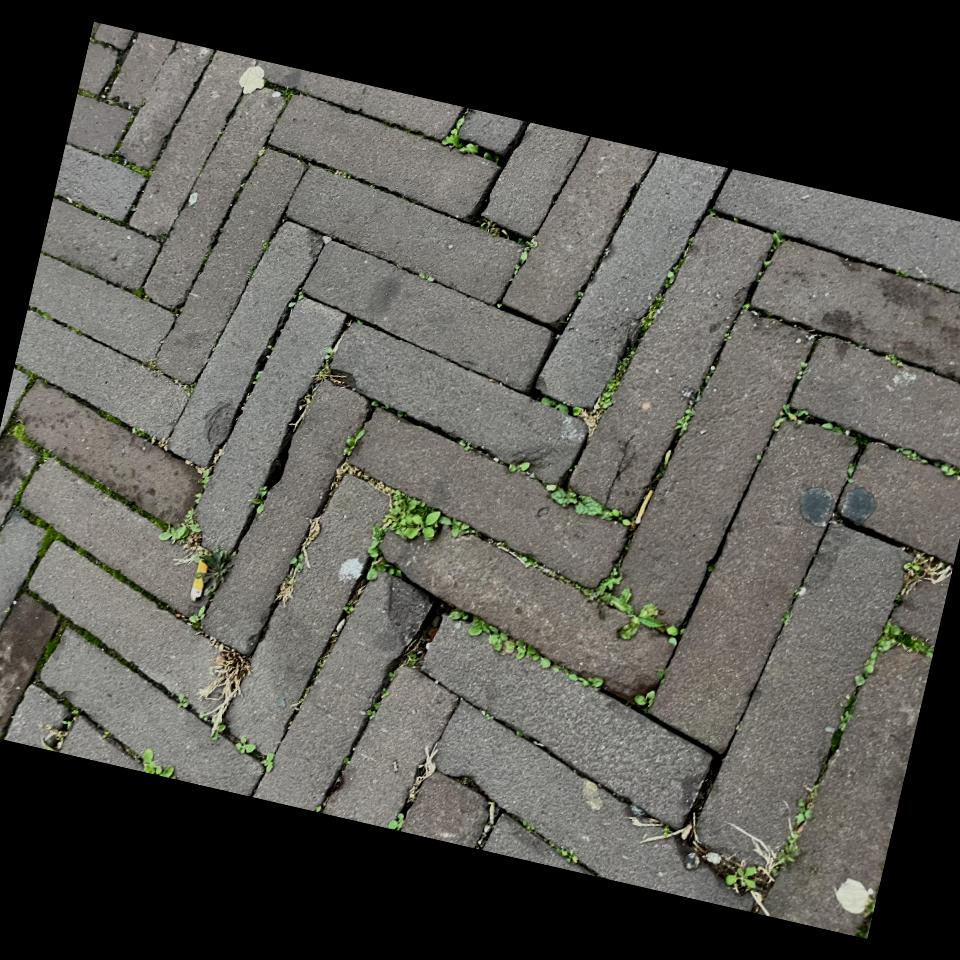weed: (177, 438, 350, 764), (127, 538, 206, 693), (43, 246, 131, 364), (276, 472, 326, 558), (292, 631, 332, 721), (290, 635, 331, 720), (399, 680, 468, 724), (654, 531, 699, 588), (261, 249, 307, 299), (521, 751, 580, 782), (468, 722, 521, 752), (38, 232, 67, 264)
